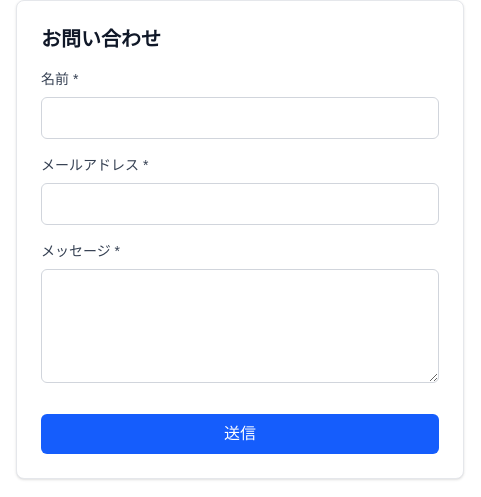
Scenario: ContactForm Integration › shows loading state during form submission
Type "田中太郎" into the field with test id "name-input" at (240, 118), box [41,97,439,139]
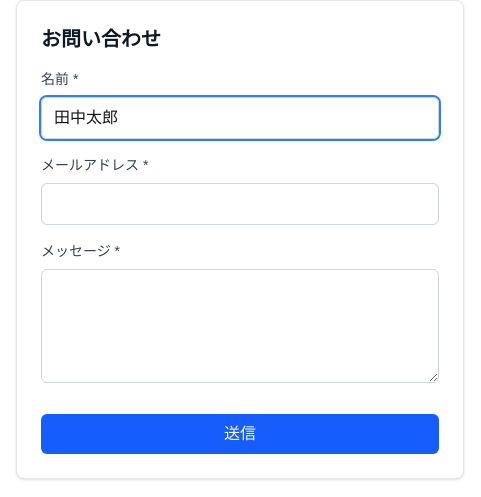
Type "tanaka@example.com" into the field with test id "email-input" at (240, 204), box [41,183,439,225]
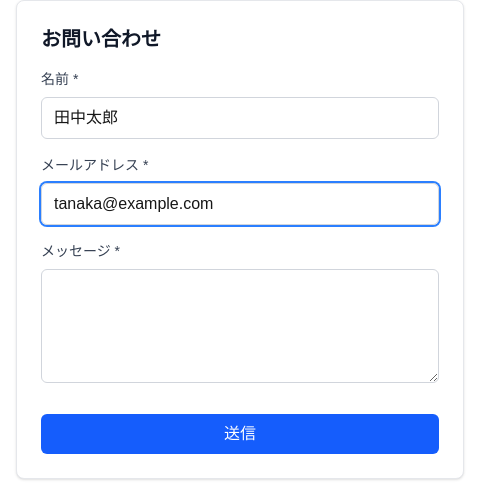
Type "これはテストメッセージです。" into the text box with test id "message-input" at (240, 326), box [41,269,439,383]
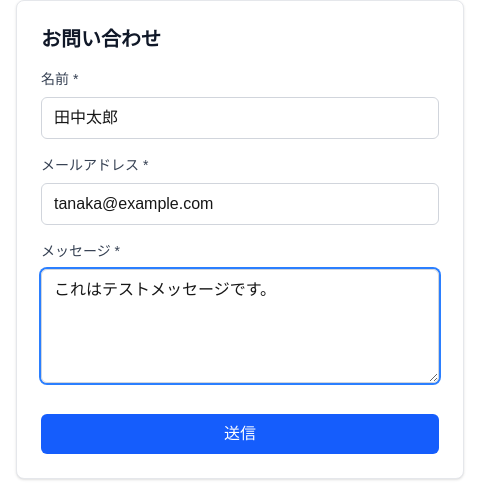
Click the button with test id "submit-button" at (240, 434), box [41,414,439,454]
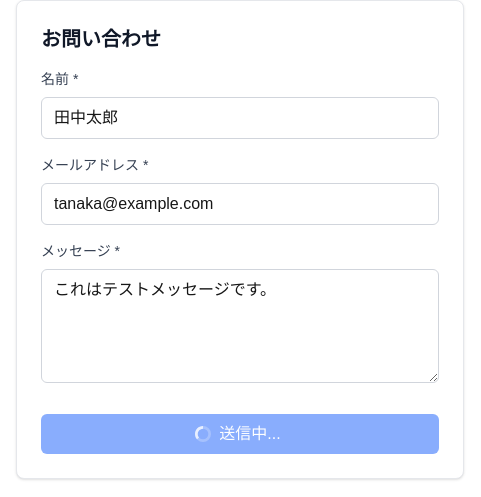
Result: the button with test id "submit-button" is disabled at [41,414,439,454]
Result: the icon with test id "loading-spinner" is shown at [195,426,211,442]
Result: the text with test id "button-text" reads "送信中..." at [219,425,281,442]
